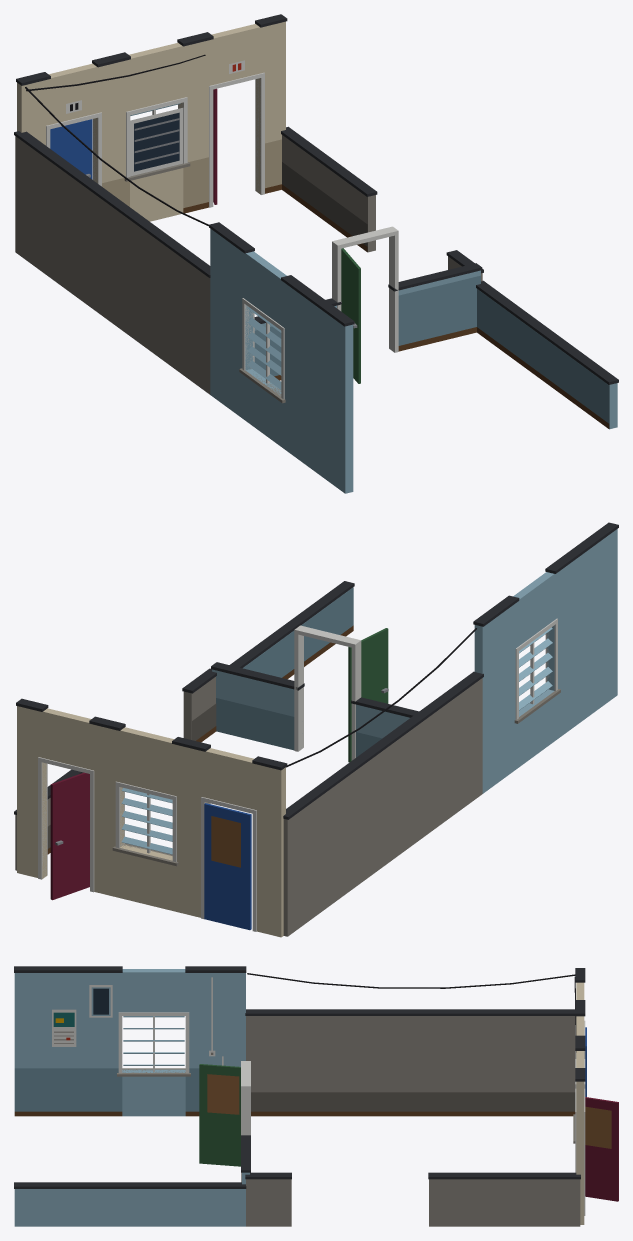
File: bld_home-room.glb
3 views of the same model, one above another, from view 1: azimuth 30°, elevation 25°; view 2: azimuth 150°, elevation 25°; view 3: azimuth 270°, elevation 25° (orthographic). The views are drawn at different scales.
Parts seen in each view (by area): view 1: body; view 2: body; view 3: body.
Part boxes in pixels (x1,y1,x2,y2): body: [14, 14, 618, 493]; body: [14, 522, 618, 937]; body: [14, 966, 618, 1226].
Size of the model in its own units: 5.18 by 3.05 by 11.44.
